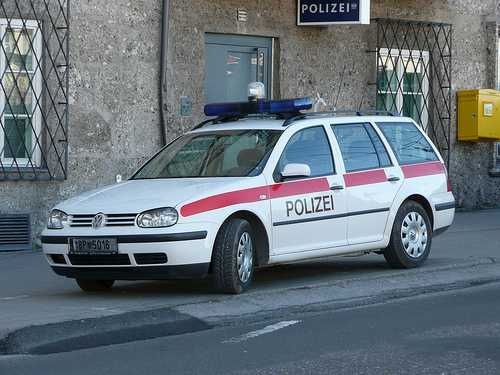Police Car: (34, 68, 464, 297)
